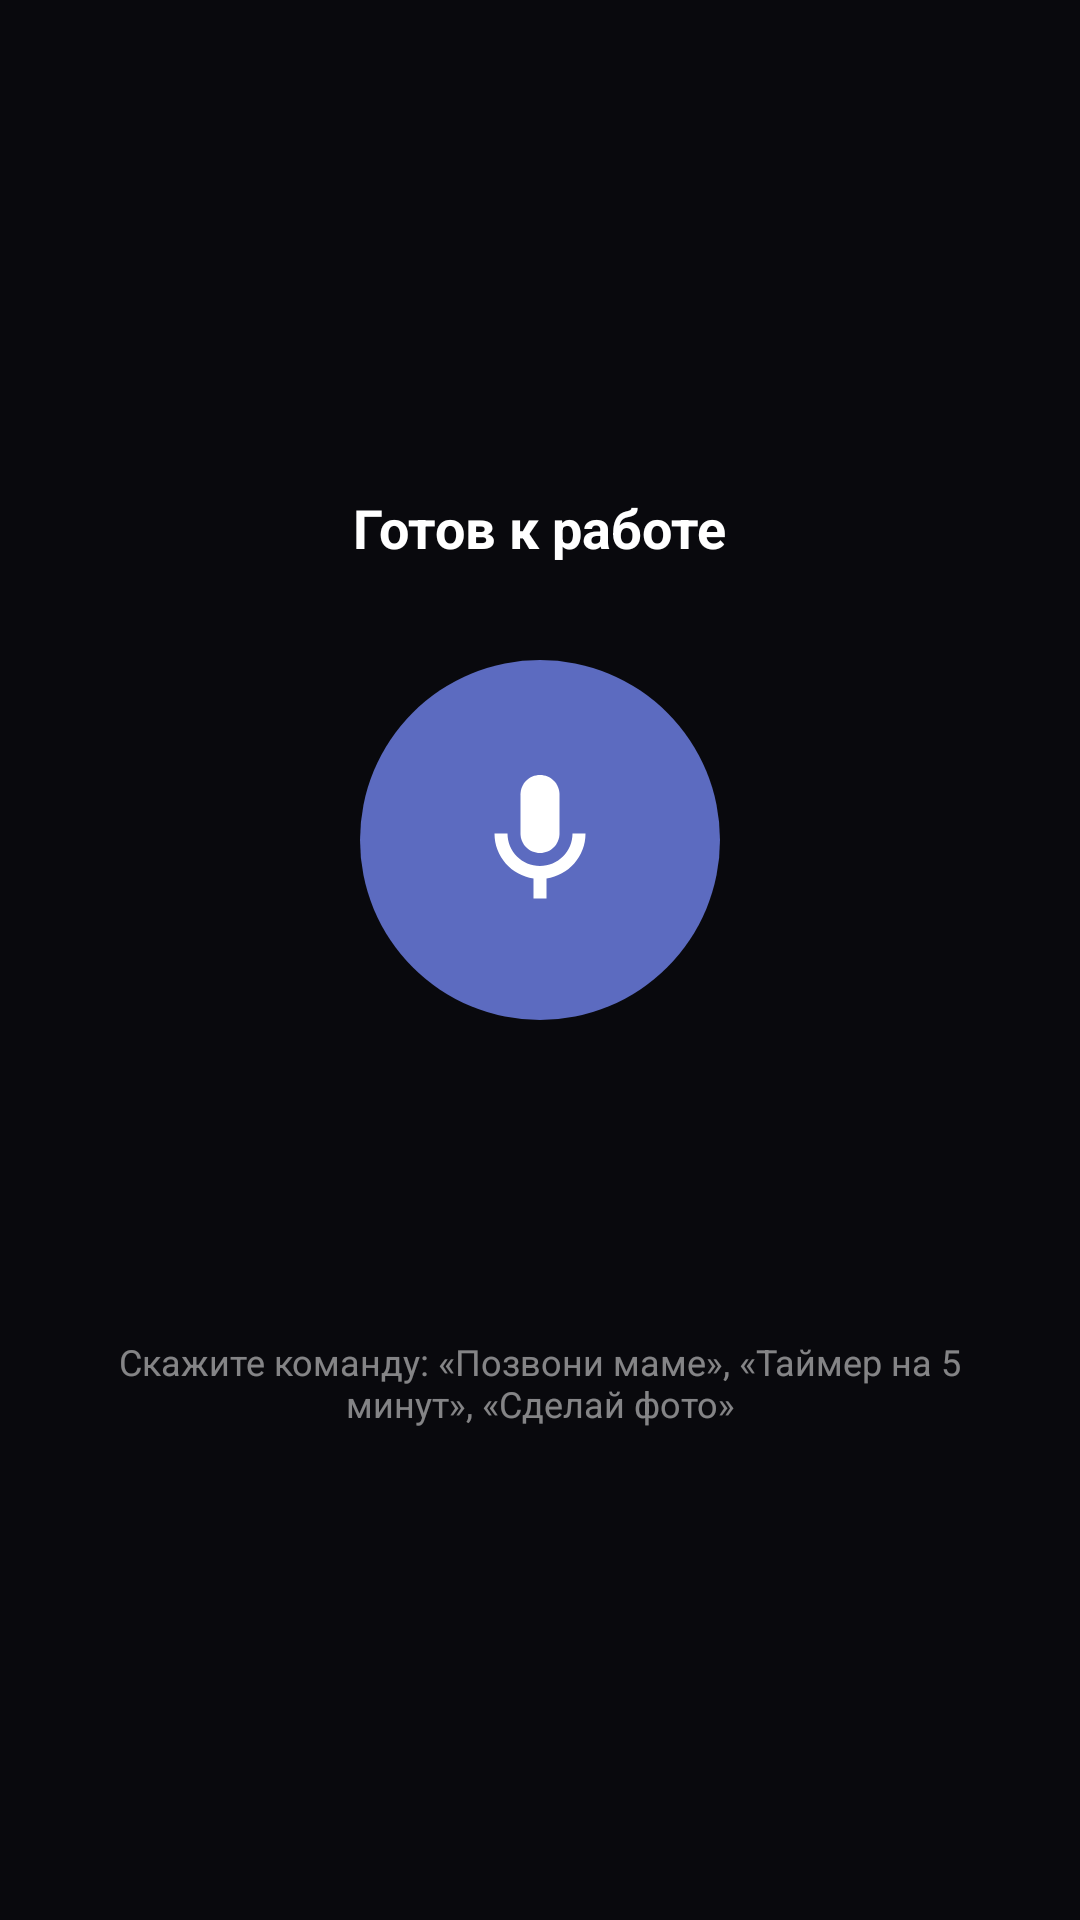

Icon bounding boxes for this 1080w x 1920h phone screenshot, format bbox=(x1, y1, x2, y2):
Слушать: bbox=(494, 775, 586, 899)
